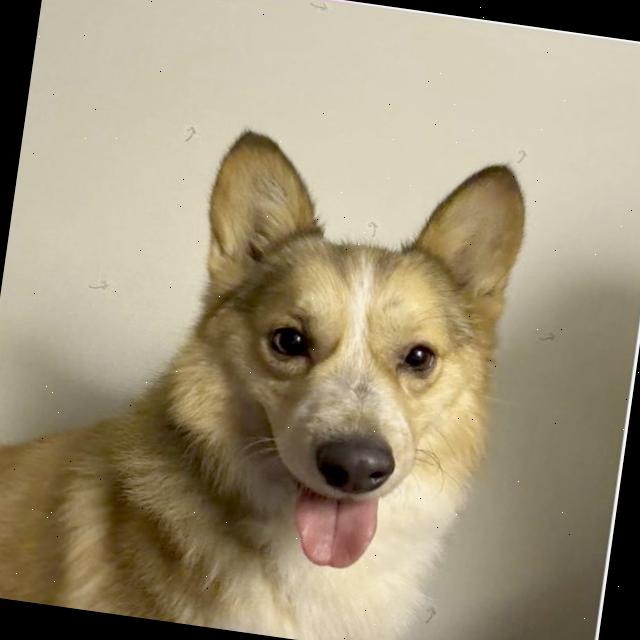corgi_dog: (112, 90, 560, 609)
